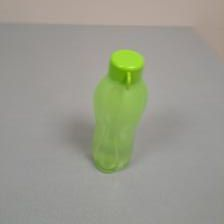bottle: (86, 47, 150, 173)
